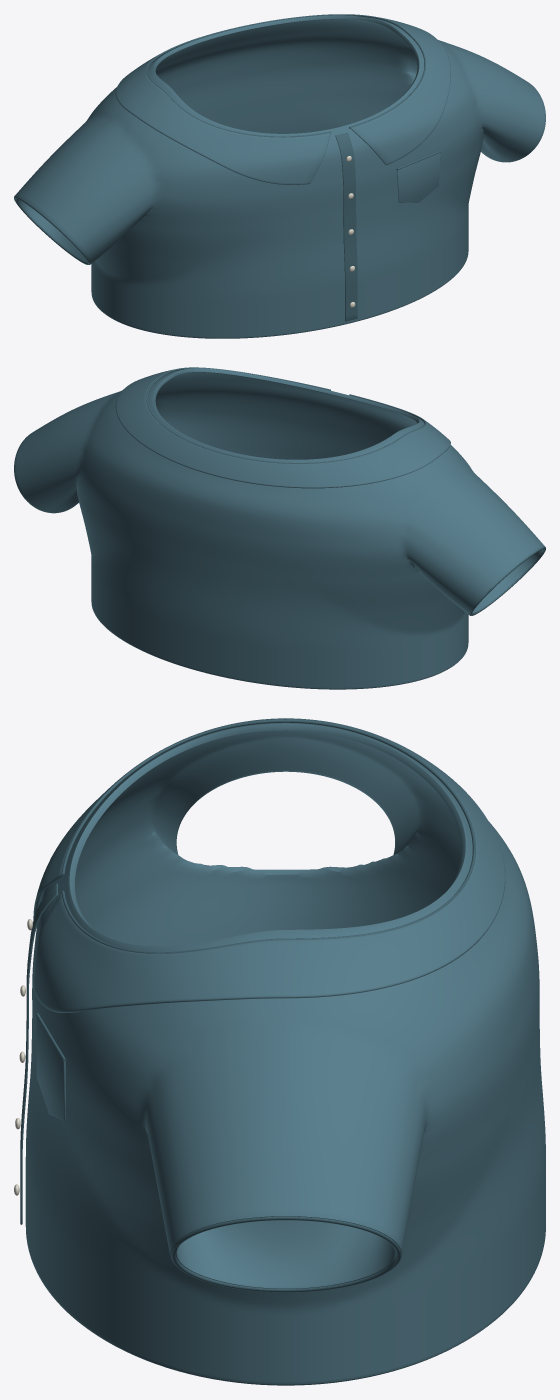
The model's file is Masculine-buttonup.glb.
3 renders of one model, top to bottom at view 1: azimuth 30°, elevation 25°; view 2: azimuth 150°, elevation 25°; view 3: azimuth 270°, elevation 25°, orthographic. The views are drawn at different scales.
Visible parts, largest first — view 1: Clothing / tshirt, Button-up / continuous folded collar, Button-up / closed placket, Button-up / chest pocket, Button-up / collar root export, Sleeve / soft cuff -1 export; view 2: Clothing / tshirt, Button-up / continuous folded collar, Button-up / collar root export, Sleeve / soft cuff -1 export; view 3: Clothing / tshirt, Button-up / continuous folded collar, Button-up / collar root export, Sleeve / soft cuff 1 export, Button-up / chest pocket, Button-up / closed placket.
Part boxes in pixels (x1,y1,x2,y2): Clothing / tshirt: (14, 15, 545, 338); Button-up / continuous folded collar: (115, 16, 450, 184); Button-up / closed placket: (335, 132, 357, 321); Button-up / chest pocket: (397, 152, 440, 202); Button-up / collar root export: (146, 14, 425, 137); Sleeve / soft cuff -1 export: (14, 196, 89, 264); Clothing / tshirt: (14, 368, 545, 688); Button-up / continuous folded collar: (115, 369, 450, 488); Button-up / collar root export: (146, 367, 425, 463); Sleeve / soft cuff -1 export: (470, 547, 545, 615); Clothing / tshirt: (25, 722, 545, 1384); Button-up / continuous folded collar: (33, 718, 505, 1013); Button-up / collar root export: (61, 719, 475, 953); Sleeve / soft cuff 1 export: (171, 1216, 400, 1292); Button-up / chest pocket: (36, 1017, 65, 1120); Button-up / closed placket: (20, 883, 58, 1224).
Bounding box in the file's own units: 0.9481 × 0.3937 × 0.4723.
